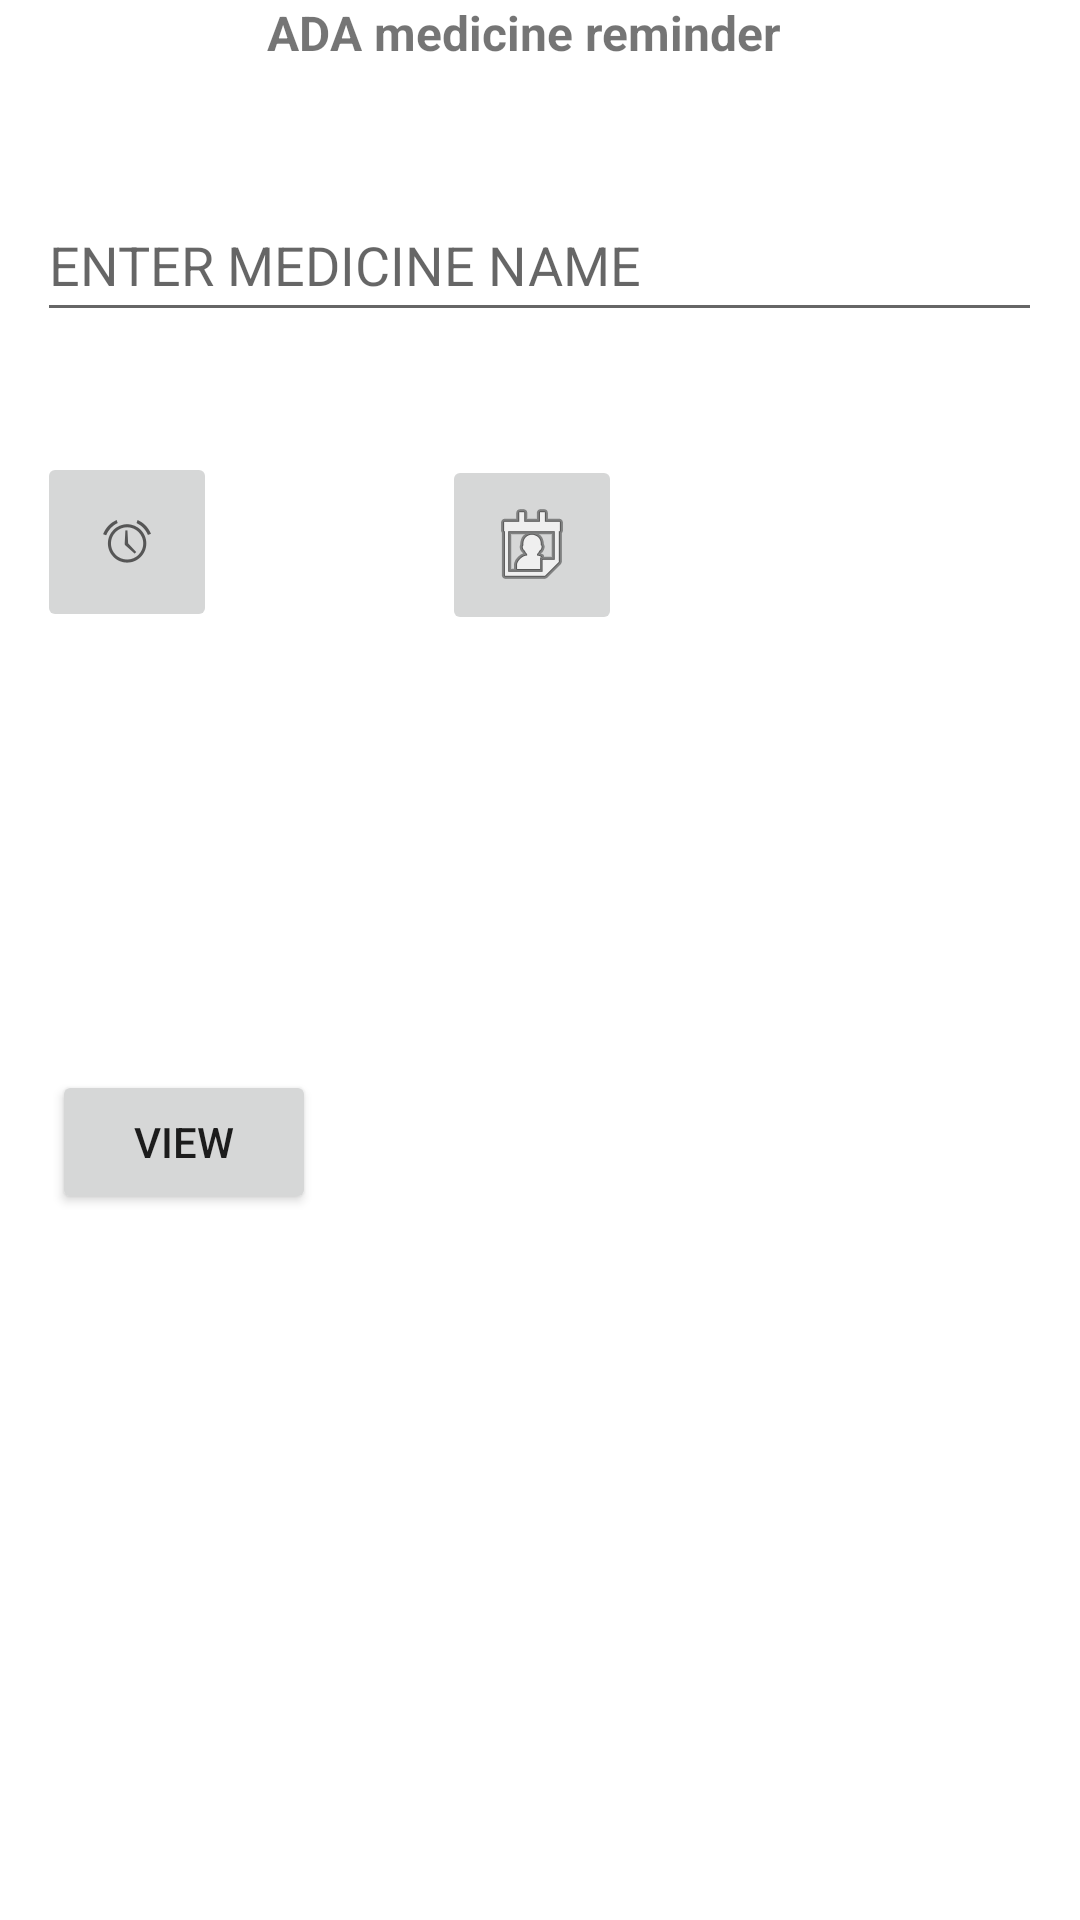

Named icons in this screenshot (1080 × 1920) and their centers, [x,y]:
calendar: [532,545]
lock idle alarm: [127,542]
